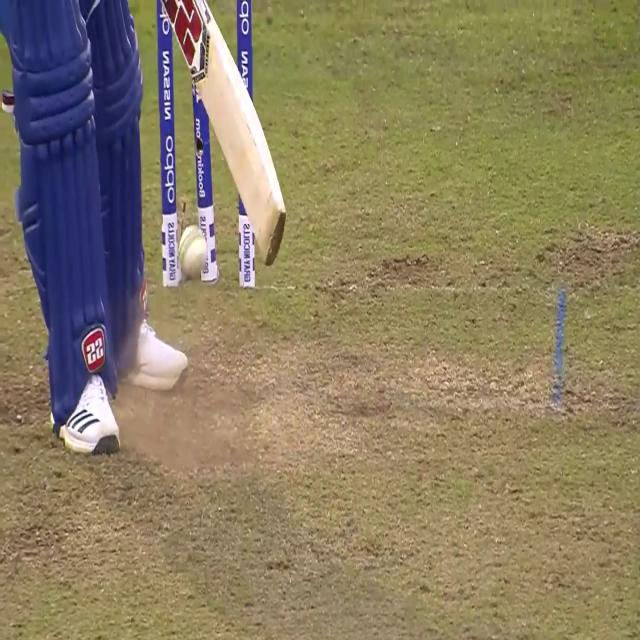ball: (175, 218, 210, 274)
